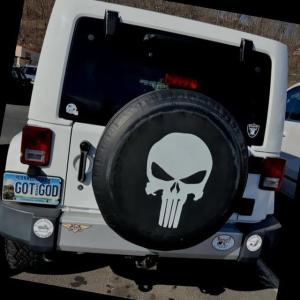Plate: (0, 172, 61, 205)
